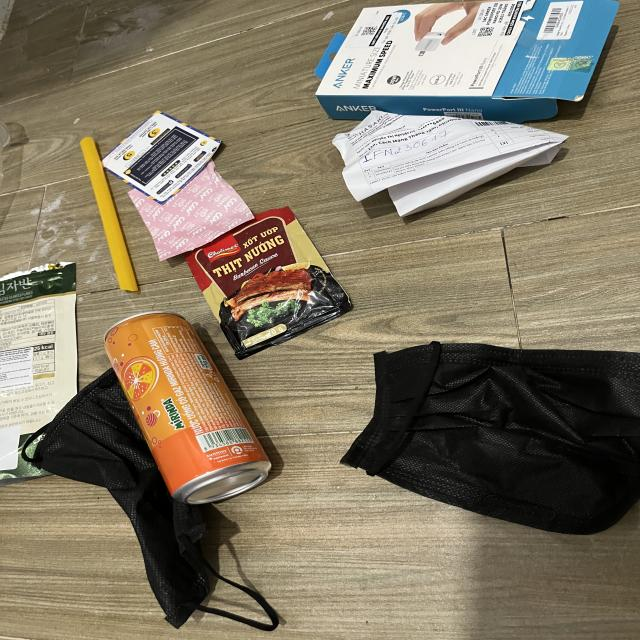can: (104, 311, 272, 505)
cardboard box: (313, 0, 623, 121)
drinking straw: (80, 137, 140, 292)
mask: (24, 367, 278, 632), (337, 341, 640, 533)
packet: (184, 207, 354, 362)
paper: (332, 111, 569, 217), (128, 159, 253, 261), (101, 110, 222, 200)
snack package: (0, 263, 79, 481)
